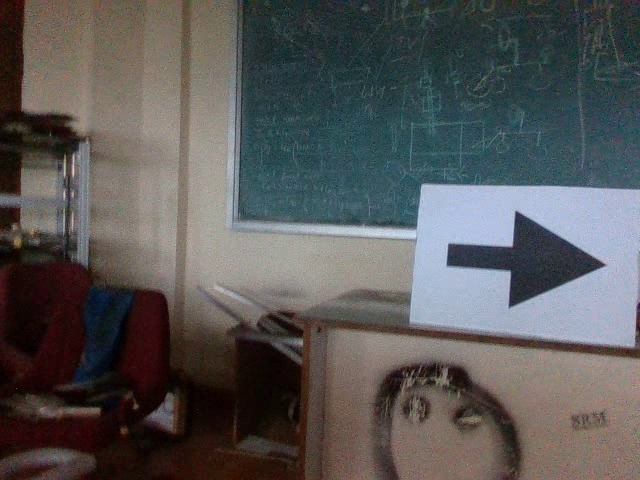Right: (440, 206, 612, 311)
